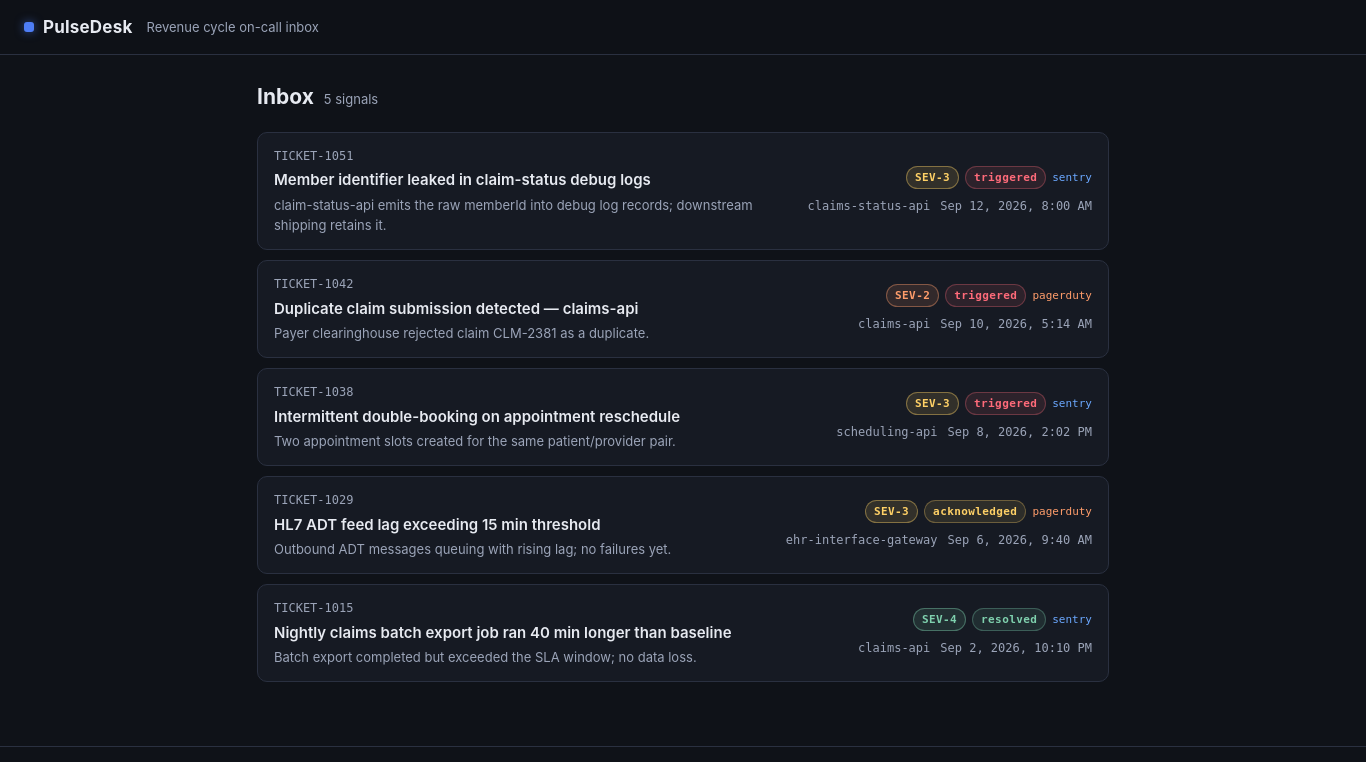
Scenario: detail view › shows the recorded run (PR view) when a run already exists, with no run button
Click the text "Duplicate claim submission detected — claims-api" at (462, 308), box [274,297,649,320]
(page scrolled)
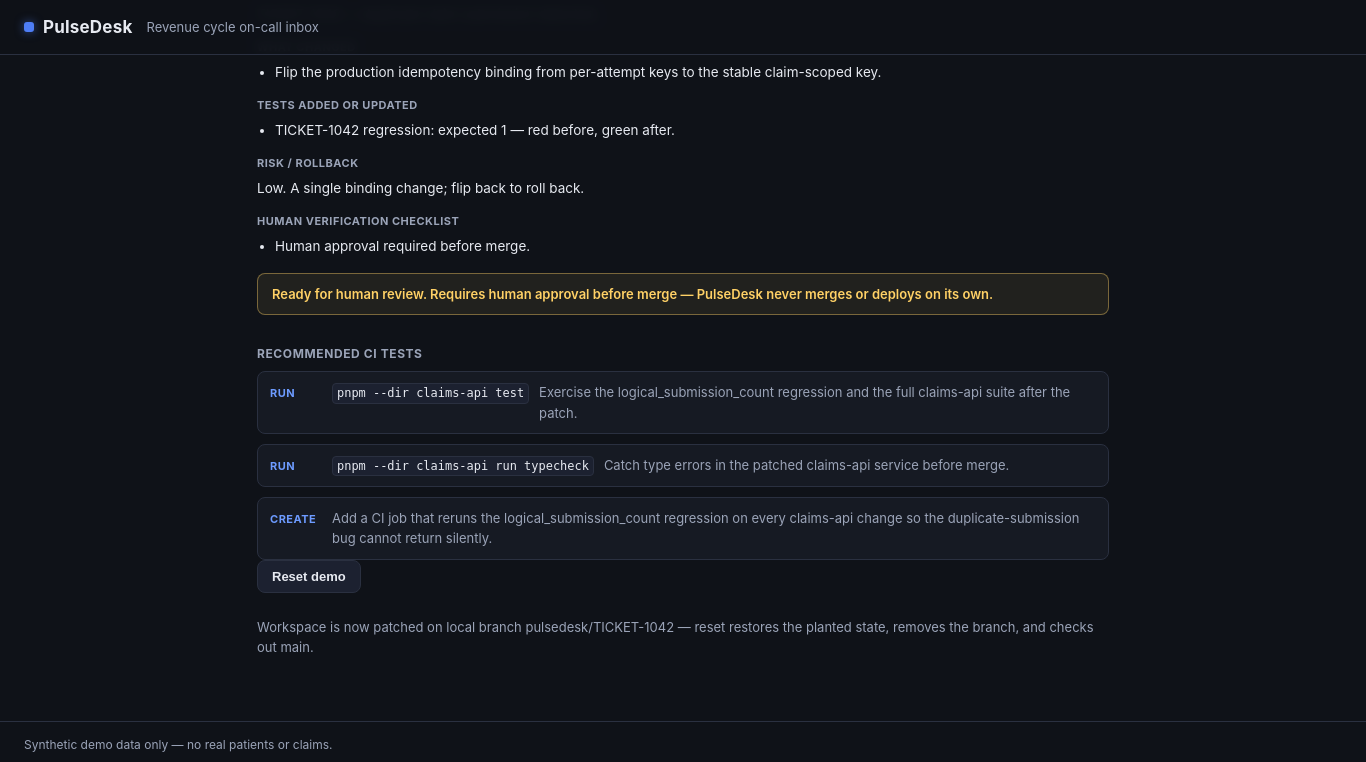
Check: the text "Workspace is now patched on local branch pulsedesk/TICKET-1042" is shown, box [257,616,1109,657]
